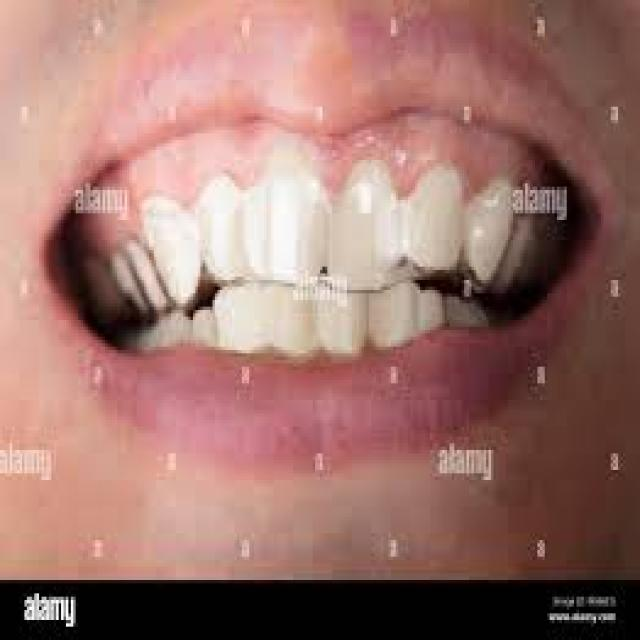tooth: (235, 140, 332, 283), (132, 180, 210, 303), (332, 160, 401, 290), (403, 144, 464, 284), (193, 160, 247, 280), (469, 160, 513, 293), (266, 270, 318, 357), (317, 273, 369, 350), (215, 270, 264, 350), (185, 290, 218, 347)
